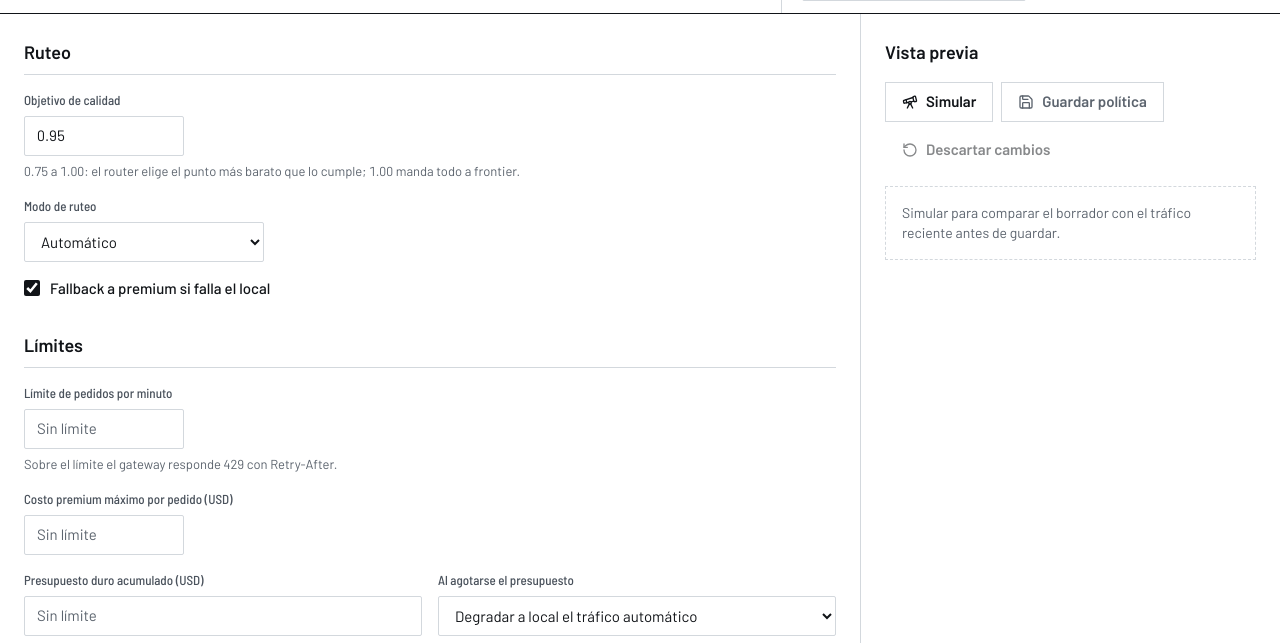
Test: policy-page › keeps unchanged previews explicitly non-saving
The width and height of the screenshot is (1280, 643).
Expected: the heading "Vista previa" is shown, top-left (885, 38), bottom-right (978, 66)
Click the button "Simular" at coordinates (939, 102), box top-left (885, 82), bottom-right (993, 122)
(page scrolled)
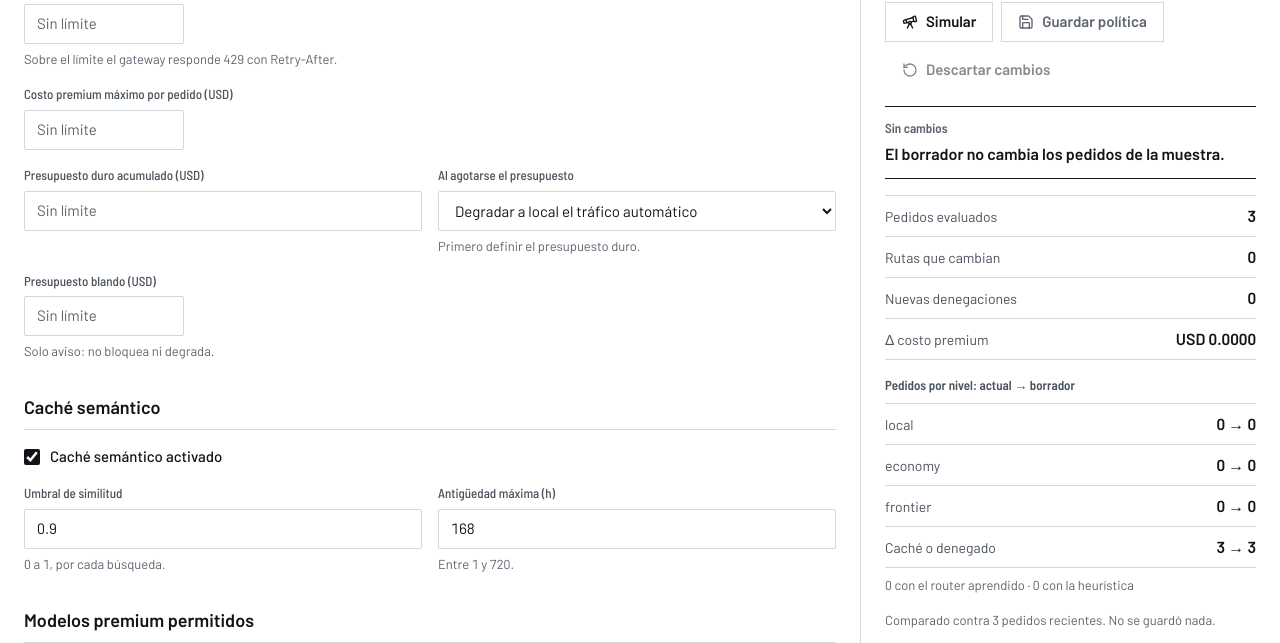
Expected: the text "Sin cambios" is shown, top-left (885, 120), bottom-right (948, 136)
Expected: the heading "El borrador no cambia los pedidos de la muestra." is shown, top-left (885, 142), bottom-right (1256, 166)
Expected: the text "Comparado contra 3 pedidos recientes. No se guardó nada." is shown, top-left (885, 610), bottom-right (1256, 629)
